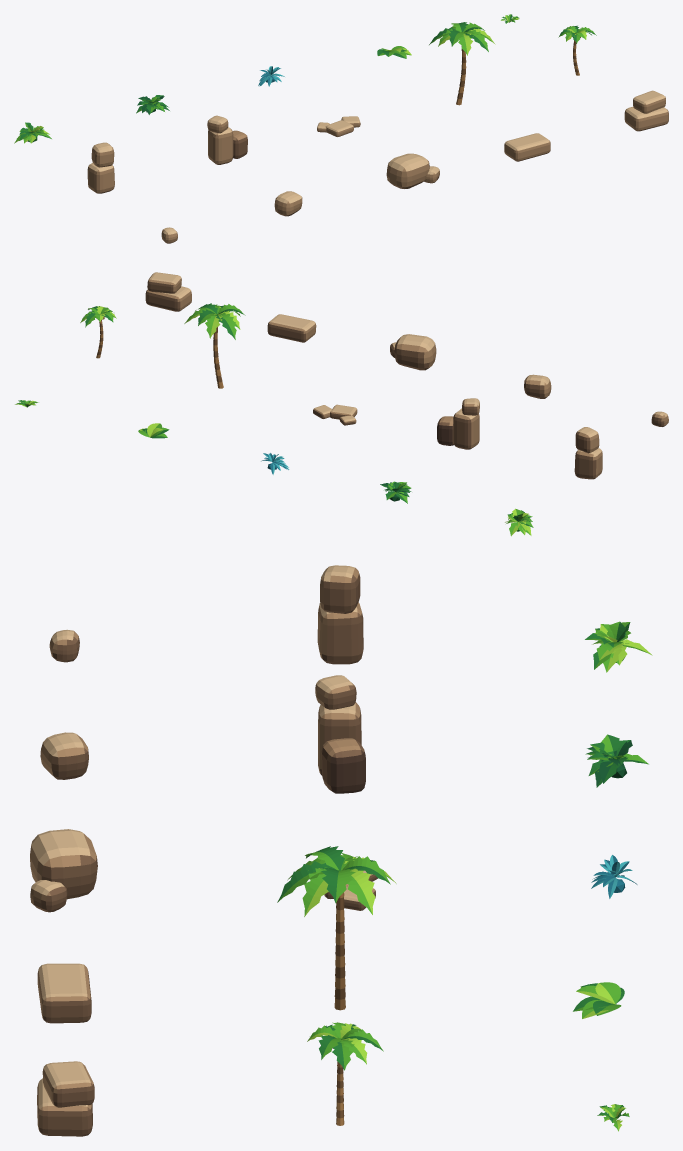
The model's file is MountainKit.glb.
3 views of the same model, one above another, from view 1: azimuth 30°, elevation 25°; view 2: azimuth 150°, elevation 25°; view 3: azimuth 270°, elevation 25° (orthographic). The views are drawn at different scales.
Visible parts, largest first — view 1: R_ColumnPair__Rock_Side, R_Column__Rock_Side, R_SlabStack__Rock_Side, R_BoulderL__Rock_Side, R_BoulderL__Rock_Top, P_PalmTall__Leaf_Mid, R_SlabStack__Rock_Top, R_Slab__Rock_Side, R_Slab__Rock_Top, R_FlatPile__Rock_Top, P_PalmTall__Leaf_Dark; view 2: R_ColumnPair__Rock_Shadow, R_Column__Rock_Shadow, R_SlabStack__Rock_Shadow, P_PalmTall__Leaf_Mid, R_BoulderL__Rock_Shadow, R_ColumnPair__Rock_Side, R_Slab__Rock_Shadow, R_Slab__Rock_Top, R_Column__Rock_Side, R_SlabStack__Rock_Side, R_BoulderL__Rock_Top; view 3: R_Column__Rock_Shadow, R_SlabStack__Rock_Shadow, P_PalmTall__Leaf_Mid, R_BoulderL__Rock_Shadow, R_ColumnPair__Rock_Shadow, R_BoulderL__Rock_Top, R_Slab__Rock_Top, R_ColumnPair__Rock_Side, R_ColumnPair__Rock_Deep, P_PalmTall__Leaf_Dark, R_SlabStack__Rock_Top, R_Slab__Rock_Shadow (+6 smaller).
Part boxes in pixels (box(x1,y1,x2,y2)): R_ColumnPair__Rock_Side: box(207, 120, 247, 164); R_Column__Rock_Side: box(87, 144, 114, 193); R_SlabStack__Rock_Side: box(624, 96, 668, 130); R_BoulderL__Rock_Side: box(386, 160, 439, 188); R_BoulderL__Rock_Top: box(388, 153, 439, 174); P_PalmTall__Leaf_Mid: box(429, 22, 493, 55); R_SlabStack__Rock_Top: box(625, 90, 667, 118); R_Slab__Rock_Side: box(504, 140, 550, 161); R_Slab__Rock_Top: box(505, 133, 549, 150); R_FlatPile__Rock_Top: box(317, 116, 359, 131); P_PalmTall__Leaf_Dark: box(429, 22, 488, 51); R_ColumnPair__Rock_Shadow: box(438, 403, 477, 449); R_Column__Rock_Shadow: box(574, 431, 596, 479); R_SlabStack__Rock_Shadow: box(145, 280, 189, 311); P_PalmTall__Leaf_Mid: box(184, 304, 244, 339); R_BoulderL__Rock_Shadow: box(390, 341, 429, 370); R_ColumnPair__Rock_Side: box(439, 399, 479, 447); R_Slab__Rock_Shadow: box(267, 322, 305, 342); R_Slab__Rock_Top: box(270, 314, 315, 330); R_Column__Rock_Side: box(576, 431, 602, 477); R_SlabStack__Rock_Side: box(147, 273, 191, 310); R_BoulderL__Rock_Top: box(392, 334, 434, 351); R_Column__Rock_Shadow: box(321, 573, 363, 664); R_SlabStack__Rock_Shadow: box(38, 1083, 94, 1136); P_PalmTall__Leaf_Mid: box(278, 852, 393, 916); R_BoulderL__Rock_Shadow: box(33, 855, 97, 912); R_ColumnPair__Rock_Shadow: box(319, 685, 364, 790); R_BoulderL__Rock_Top: box(31, 829, 90, 895); R_Slab__Rock_Top: box(38, 963, 87, 999); R_ColumnPair__Rock_Side: box(315, 682, 360, 773); R_ColumnPair__Rock_Deep: box(330, 750, 365, 793); P_PalmTall__Leaf_Dark: box(277, 846, 389, 902); R_SlabStack__Rock_Top: box(38, 1061, 90, 1108); R_Slab__Rock_Shadow: box(43, 971, 91, 1023).
Size of the model in its own units: 299 by 43.94 by 158.
